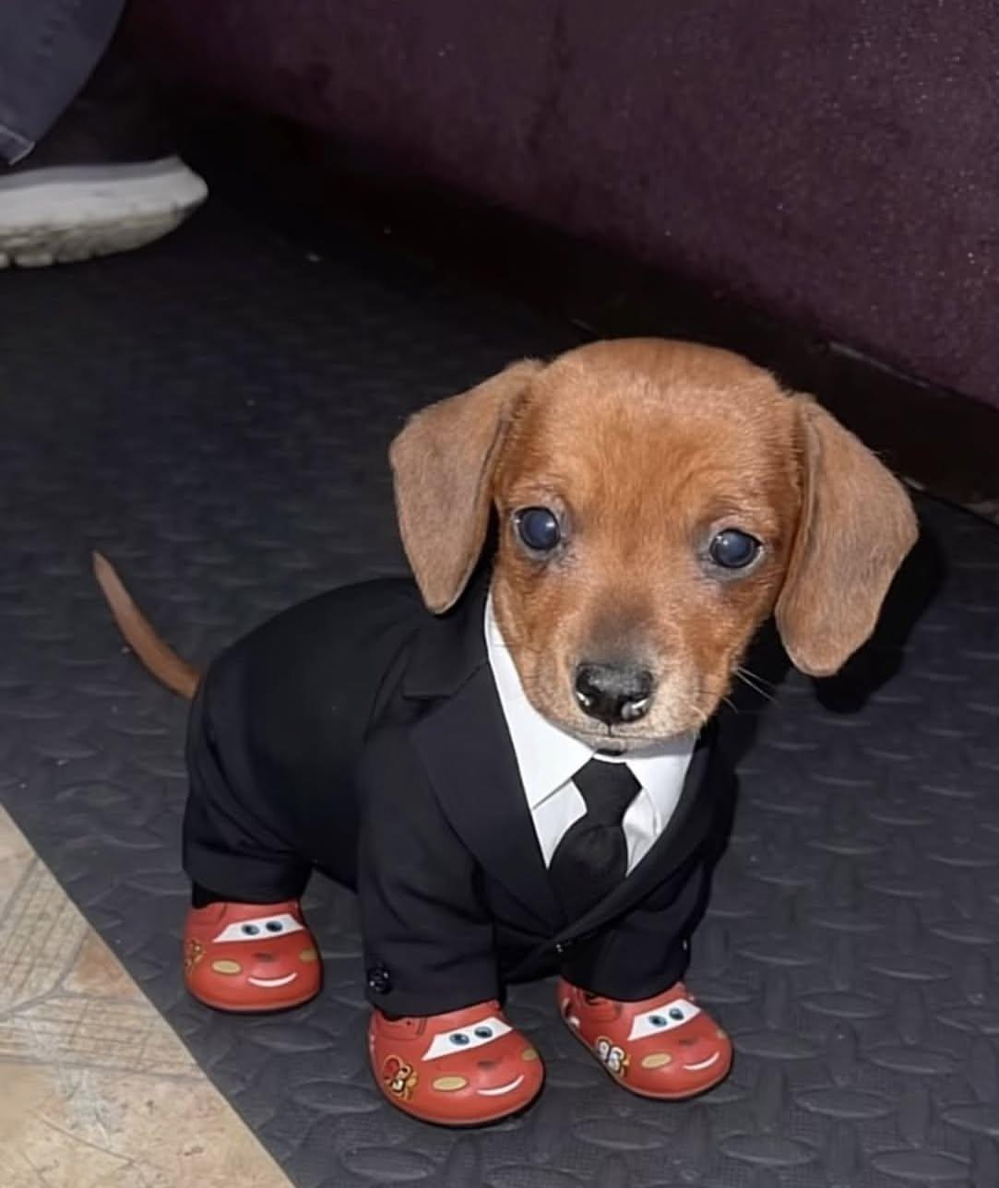puppy-dog: (91, 334, 919, 1126)
